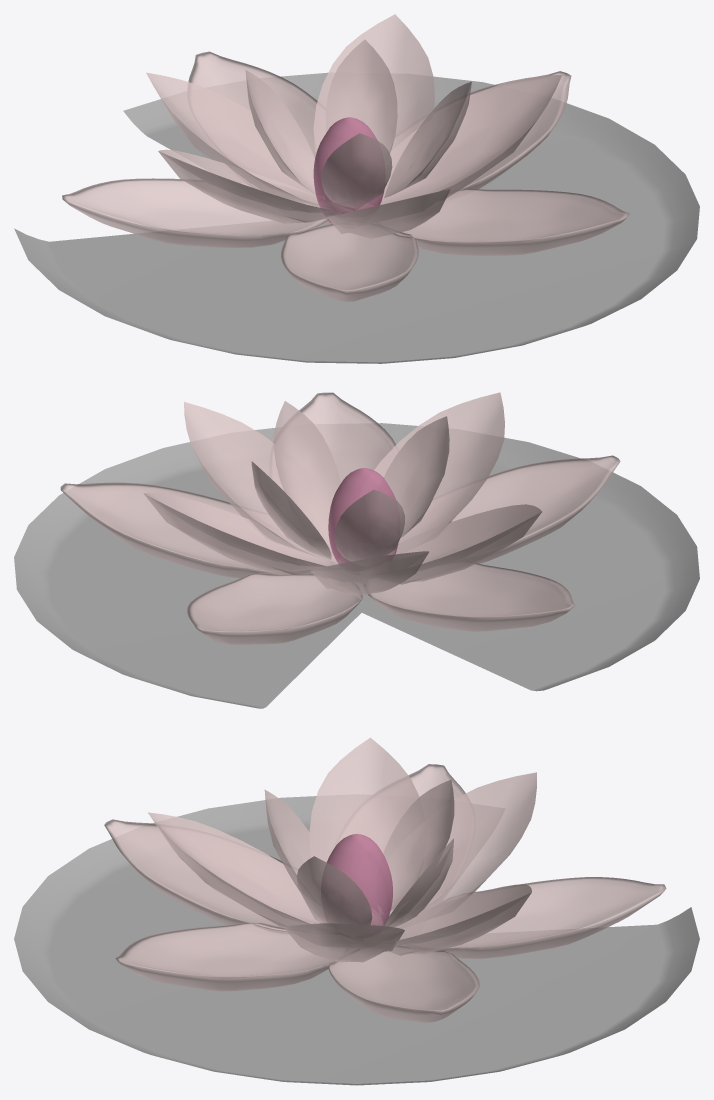
Rendered from lily-final.fbx.
3 views of the same model, one above another, from view 1: azimuth 30°, elevation 25°; view 2: azimuth 150°, elevation 25°; view 3: azimuth 270°, elevation 25° (orthographic).
Visible parts, largest first — view 1: pCylinder1, pDisc4, pDisc2, pDisc8, pDisc10, pDisc3, pDisc7, pDisc6, pSphere1, pDisc12, pDisc1, pDisc11 (+4 smaller); view 2: pCylinder1, pDisc2, pDisc1, pDisc5, pDisc3, pDisc8, pDisc9, pDisc7, pDisc6, pDisc13, pDisc4, pSphere1 (+4 smaller); view 3: pCylinder1, pDisc4, pDisc1, pDisc9, pDisc6, pDisc5, pDisc10, pDisc3, pDisc7, pDisc11, pSphere1, pDisc13 (+4 smaller).
Boxes of the visible parts, box(x1,y1,x2,y2) form: pCylinder1: box(14, 72, 699, 363); pDisc4: box(392, 188, 629, 255); pDisc2: box(62, 178, 328, 247); pDisc8: box(357, 74, 561, 209); pDisc10: box(146, 72, 350, 210); pDisc3: box(281, 223, 418, 301); pDisc7: box(313, 14, 434, 193); pDisc6: box(158, 149, 351, 223); pSphere1: box(313, 117, 384, 223); pDisc12: box(325, 39, 397, 153); pDisc1: box(188, 51, 317, 158); pDisc11: box(245, 70, 324, 199); pCylinder1: box(14, 423, 699, 708); pDisc2: box(363, 563, 575, 631); pDisc1: box(187, 573, 362, 644); pDisc5: box(60, 482, 311, 578); pDisc3: box(451, 455, 620, 563); pDisc8: box(184, 402, 350, 563); pDisc9: box(374, 392, 504, 553); pDisc7: box(143, 492, 338, 575); pDisc6: box(377, 504, 542, 584); pDisc13: box(274, 401, 340, 545); pDisc4: box(273, 392, 395, 483); pSphere1: box(328, 468, 399, 582); pCylinder1: box(14, 794, 699, 1085); pDisc4: box(115, 922, 336, 991); pDisc1: box(409, 877, 666, 958); pDisc9: box(148, 812, 320, 927); pDisc6: box(309, 737, 419, 915); pDisc5: box(328, 946, 479, 1022); pDisc10: box(371, 772, 536, 928); pDisc3: box(104, 819, 288, 933); pDisc7: box(376, 884, 531, 955); pDisc11: box(378, 779, 454, 914); pSphere1: box(321, 834, 392, 948); pDisc13: box(296, 856, 372, 924).
Size of the model in its own units: 9.11 by 2.1 by 9.11.
